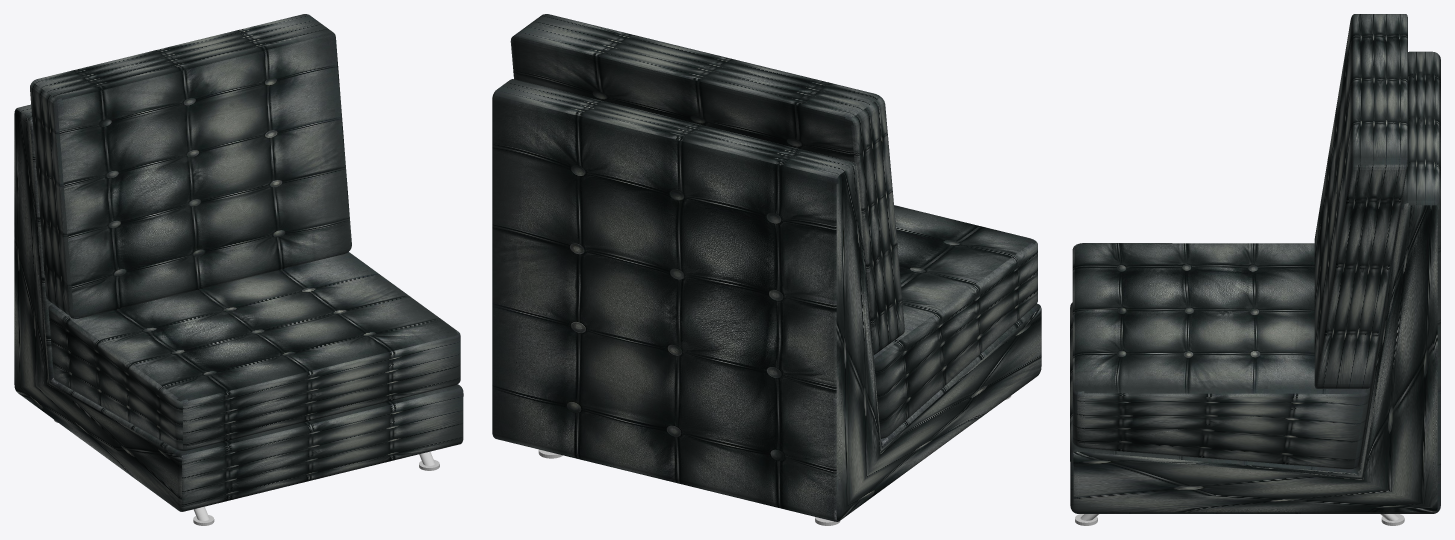
File: Chair1.dae
3 renders of one model, left to right at view 1: azimuth 30°, elevation 25°; view 2: azimuth 150°, elevation 25°; view 3: azimuth 270°, elevation 25°, orthographic. The views are drawn at different scales.
Parts seen in each view (by area): view 1: Plane_002, Plane_001, Plane, Cylinder_002; view 2: Plane, Plane_002, Plane_001; view 3: Plane_001, Plane, Plane_002, Cylinder_002.
Part boxes in pixels (bbox=[...]): Plane_002: bbox=[30, 14, 351, 318]; Plane_001: bbox=[48, 252, 460, 450]; Plane: bbox=[14, 104, 463, 511]; Cylinder_002: bbox=[53, 419, 439, 525]; Plane: bbox=[492, 79, 1041, 521]; Plane_002: bbox=[510, 14, 904, 354]; Plane_001: bbox=[873, 205, 1037, 438]; Plane_001: bbox=[1072, 243, 1369, 469]; Plane: bbox=[1070, 51, 1440, 513]; Plane_002: bbox=[1314, 14, 1407, 388]; Cylinder_002: bbox=[1075, 514, 1404, 525].
Size of the model in its own units: 2.37 by 2.44 by 2.72.
Materials: 2 (1 with a texture image).
